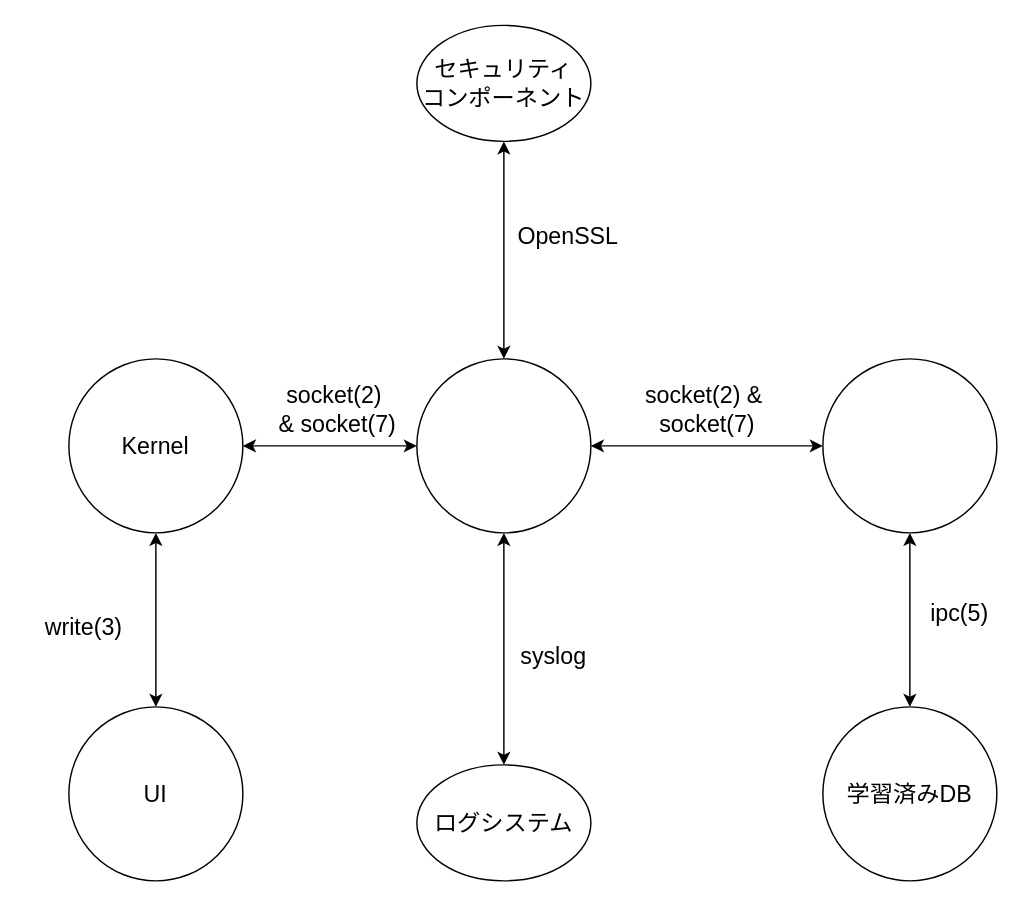
This 1027x906 diagram has some shape labels left out. Here are the shapes that lost their labels. From the top down, the centre of each, then its label:
At point (503, 445): "ネットワーク".
At point (909, 445): "ChatGPT".
